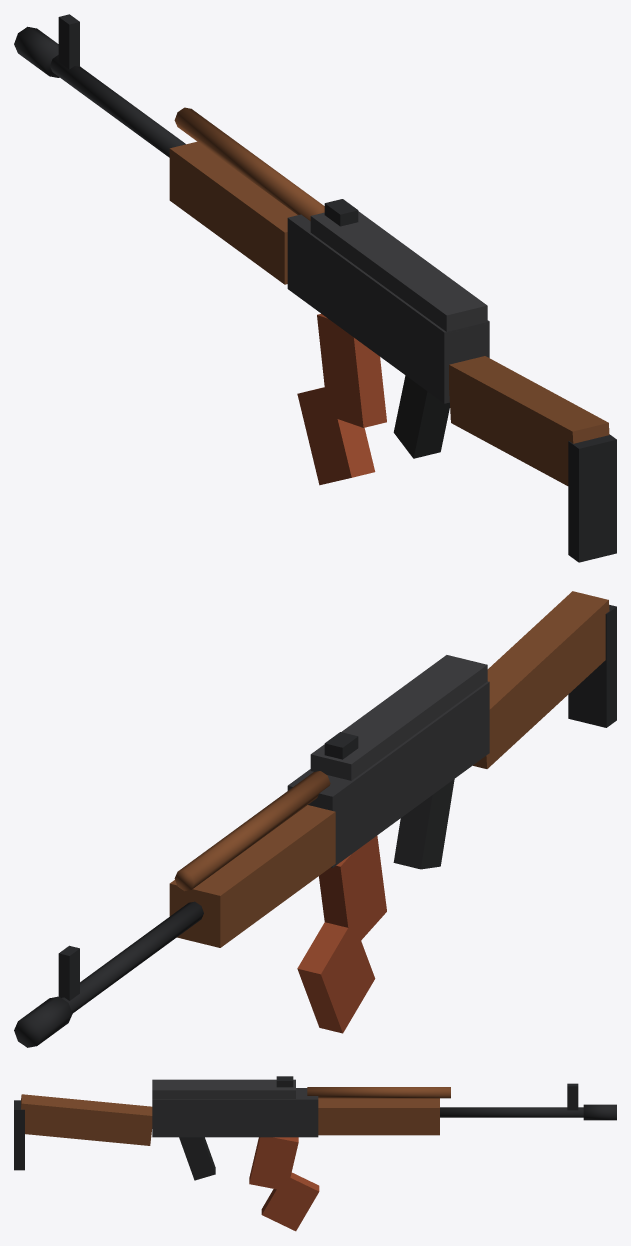
The model's file is Rifle_Red.fbx.
3 views of the same model, one above another, from view 1: azimuth 30°, elevation 25°; view 2: azimuth 150°, elevation 25°; view 3: azimuth 270°, elevation 25° (orthographic). The views are drawn at different scales.
Parts seen in each view (by area): view 1: Receiver, Stock, Handguard, DustCover, ButtPlate, MagUpper, MagLower, GasTube, Grip, Barrel, MuzzleBrake, FrontSight; view 2: Receiver, Stock, Handguard, DustCover, MagLower, MagUpper, GasTube, Barrel, Grip, ButtPlate, MuzzleBrake, FrontSight (+1 smaller); view 3: Receiver, Stock, Handguard, DustCover, MagUpper, MagLower, GasTube, Barrel, Grip, ButtPlate, MuzzleBrake, FrontSight.
Part boxes in pixels (x1,y1,x2,y2): Receiver: (287, 214, 489, 403); Stock: (449, 356, 609, 485); Handguard: (169, 141, 297, 284); DustCover: (310, 211, 487, 332); ButtPlate: (568, 434, 616, 562); MagUpper: (317, 313, 386, 427); MagLower: (297, 386, 375, 485); GasTube: (174, 107, 324, 220); Grip: (393, 375, 449, 458); Barrel: (50, 55, 185, 157); MuzzleBrake: (14, 26, 59, 77); FrontSight: (58, 14, 79, 69); Receiver: (287, 681, 489, 867); Stock: (473, 591, 609, 768); Handguard: (169, 805, 335, 947); DustCover: (310, 655, 487, 780); MagLower: (297, 920, 375, 1033); MagUpper: (319, 835, 386, 940); GasTube: (174, 771, 330, 891); Barrel: (61, 901, 203, 1013); Grip: (393, 779, 454, 869); ButtPlate: (568, 605, 616, 727); MuzzleBrake: (14, 996, 72, 1047); FrontSight: (58, 945, 79, 1000); Receiver: (152, 1088, 318, 1137); Stock: (21, 1094, 152, 1145); Handguard: (318, 1098, 439, 1135); DustCover: (152, 1079, 295, 1098); MagUpper: (249, 1137, 298, 1191); MagLower: (261, 1172, 319, 1231); GasTube: (307, 1087, 450, 1098); Barrel: (440, 1107, 583, 1117); Grip: (179, 1137, 215, 1180); ButtPlate: (14, 1100, 24, 1170); MuzzleBrake: (583, 1104, 616, 1120); FrontSight: (567, 1083, 578, 1110).
Size of the model in its own units: 5.6 by 109 by 29.87.
